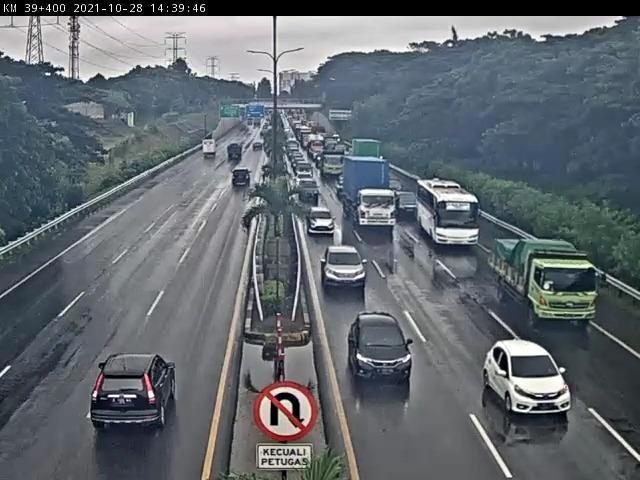bus: (412, 168, 483, 255)
car: (480, 337, 579, 426), (87, 351, 181, 435), (344, 306, 420, 392), (319, 240, 371, 292), (307, 205, 339, 238), (388, 187, 419, 221), (227, 171, 255, 197), (296, 174, 322, 201), (224, 144, 246, 164), (293, 169, 315, 187), (294, 158, 316, 173), (251, 141, 265, 153)
truck: (483, 232, 607, 330), (341, 154, 401, 232), (349, 134, 386, 166), (314, 148, 348, 180), (199, 139, 219, 163)
